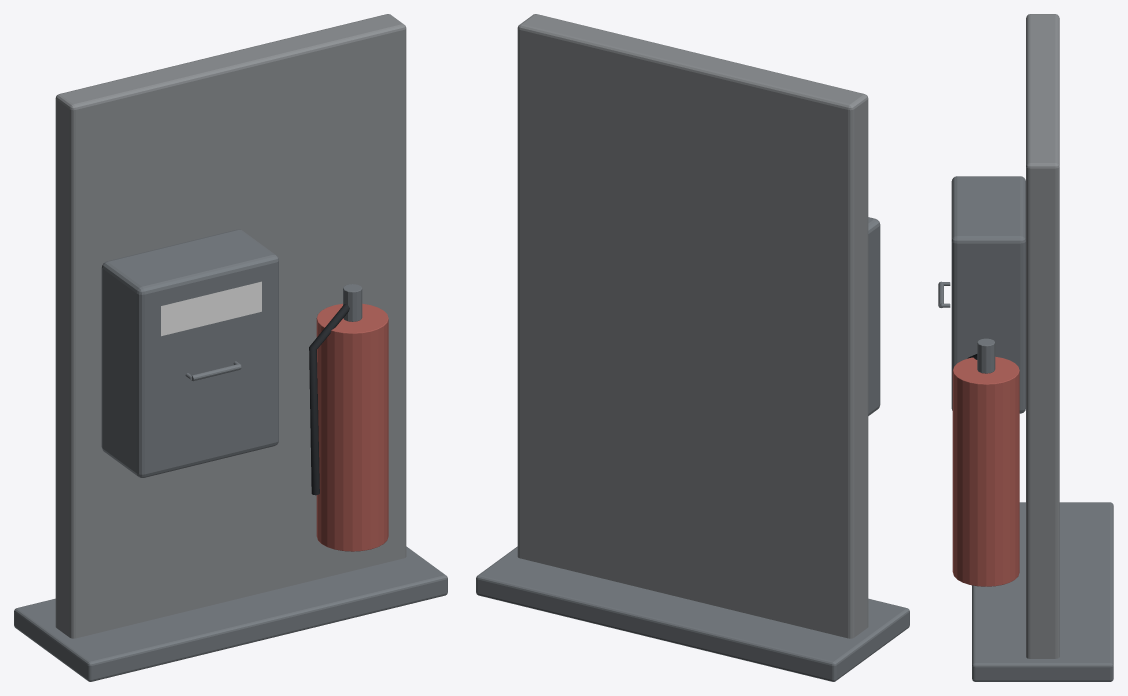
Rendered from BX_SafetyEquipment.fbx.
The picture shows the model from 3 angles, left to right: view 1: azimuth 30°, elevation 25°; view 2: azimuth 150°, elevation 25°; view 3: azimuth 270°, elevation 25°; orthographic projection. The views are drawn at different scales.
Parts seen in each view (by area): view 1: BX_SafetyEquipment; view 2: BX_SafetyEquipment; view 3: BX_SafetyEquipment.
Boxes of the visible parts, x1=… form: BX_SafetyEquipment: x1=14, y1=14, x2=447, y2=681; BX_SafetyEquipment: x1=476, y1=14, x2=909, y2=681; BX_SafetyEquipment: x1=938, y1=14, x2=1113, y2=681.
Bounding box in the file's own units: 150 × 220 × 68.1.
